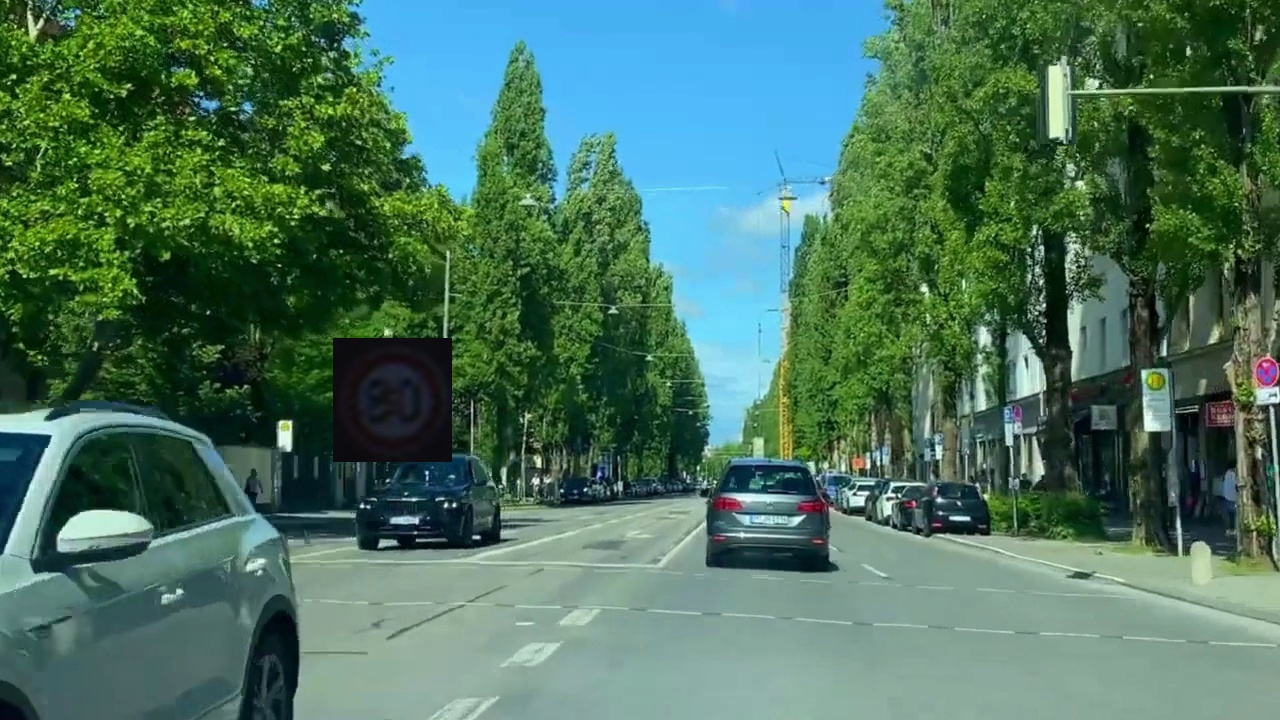Speed 80: (333, 338, 452, 462)
